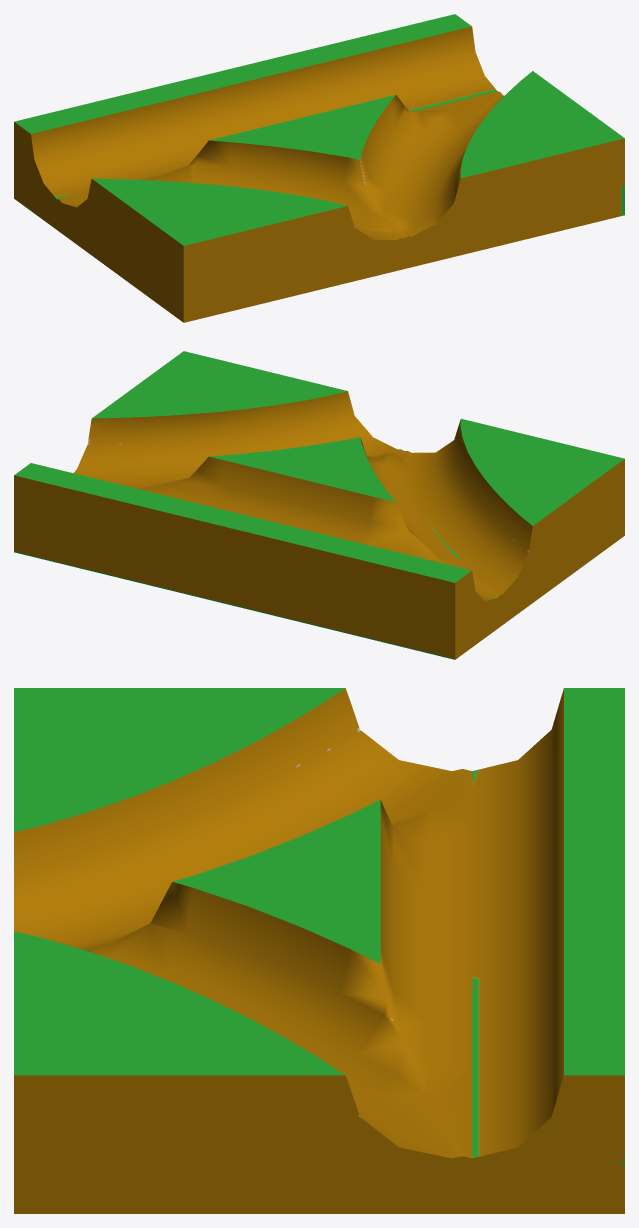
The model's file is split_2.fbx.
3 renders of one model, top to bottom at view 1: azimuth 30°, elevation 25°; view 2: azimuth 150°, elevation 25°; view 3: azimuth 270°, elevation 25°, orthographic. The views are drawn at different scales.
Parts seen in each view (by area): view 1: Cube_1_1.042; view 2: Cube_1_1.042; view 3: Cube_1_1.042.
Boxes of the visible parts, x1,y1,x2,y2 form: Cube_1_1.042: (14,14,624,322); Cube_1_1.042: (14,351,624,659); Cube_1_1.042: (14,688,624,1213).
Size of the model in its own units: 600 by 100 by 400.
